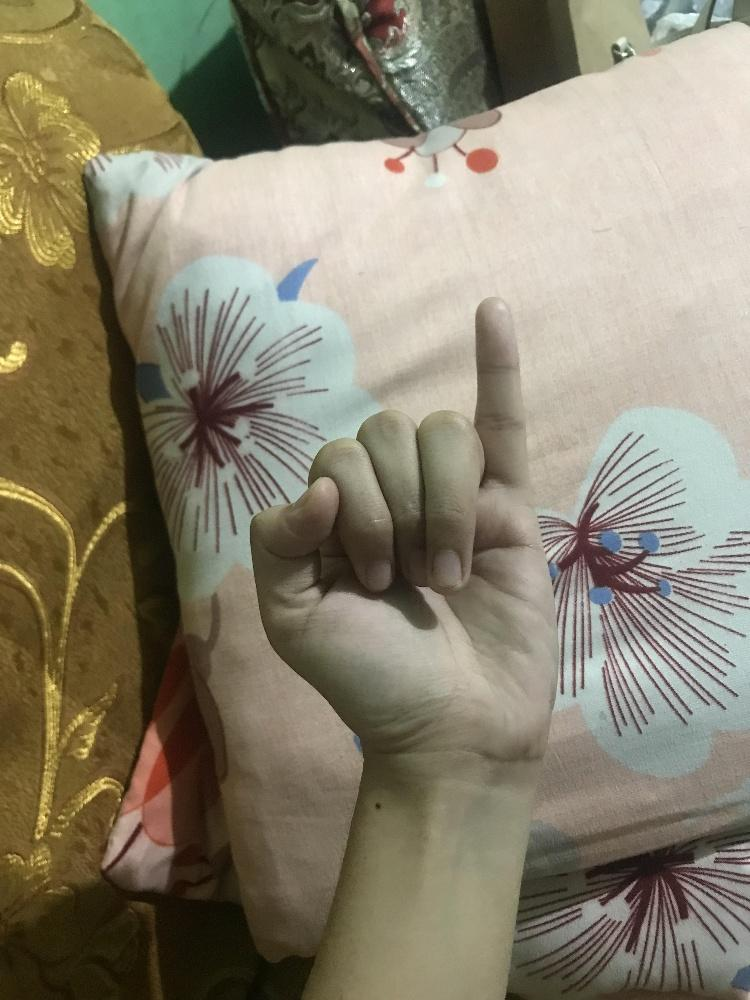i: (246, 291, 563, 770)
